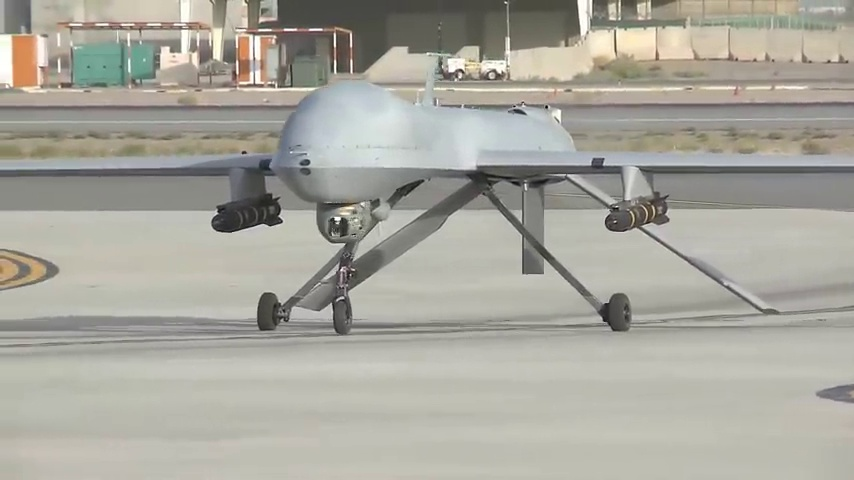military drone: (0, 51, 854, 334)
